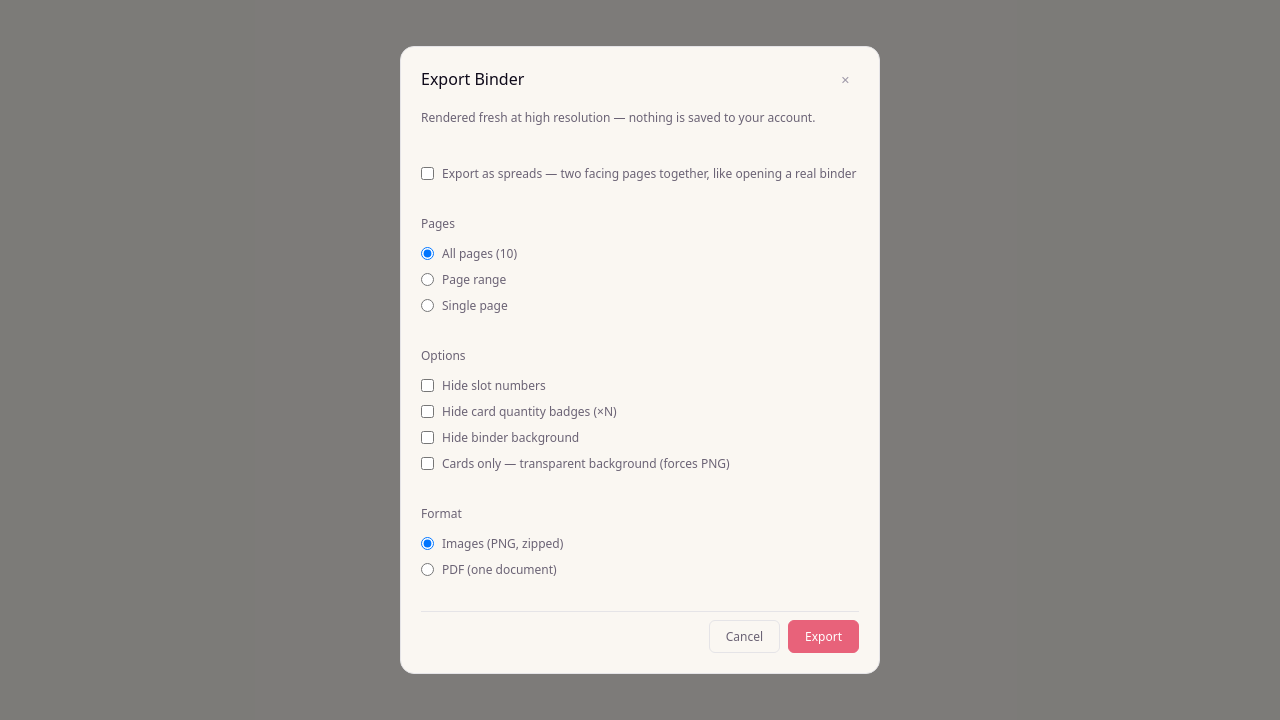
ExportBinderModal — page range selection › selecting "Single page" reveals just one page input
Click the text "Single page".
click(464, 305)  # box [421,297,508,314]
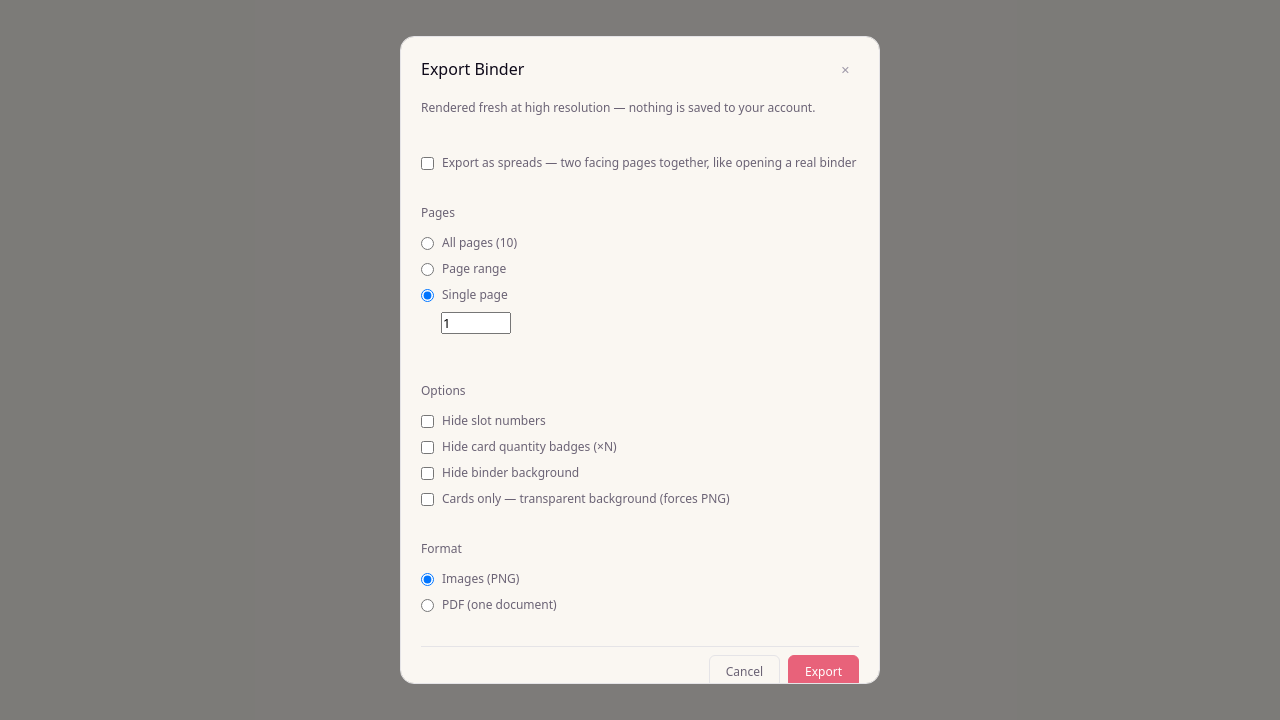
Now the number field with id "export-single" is shown, box [441,312,511,334]
